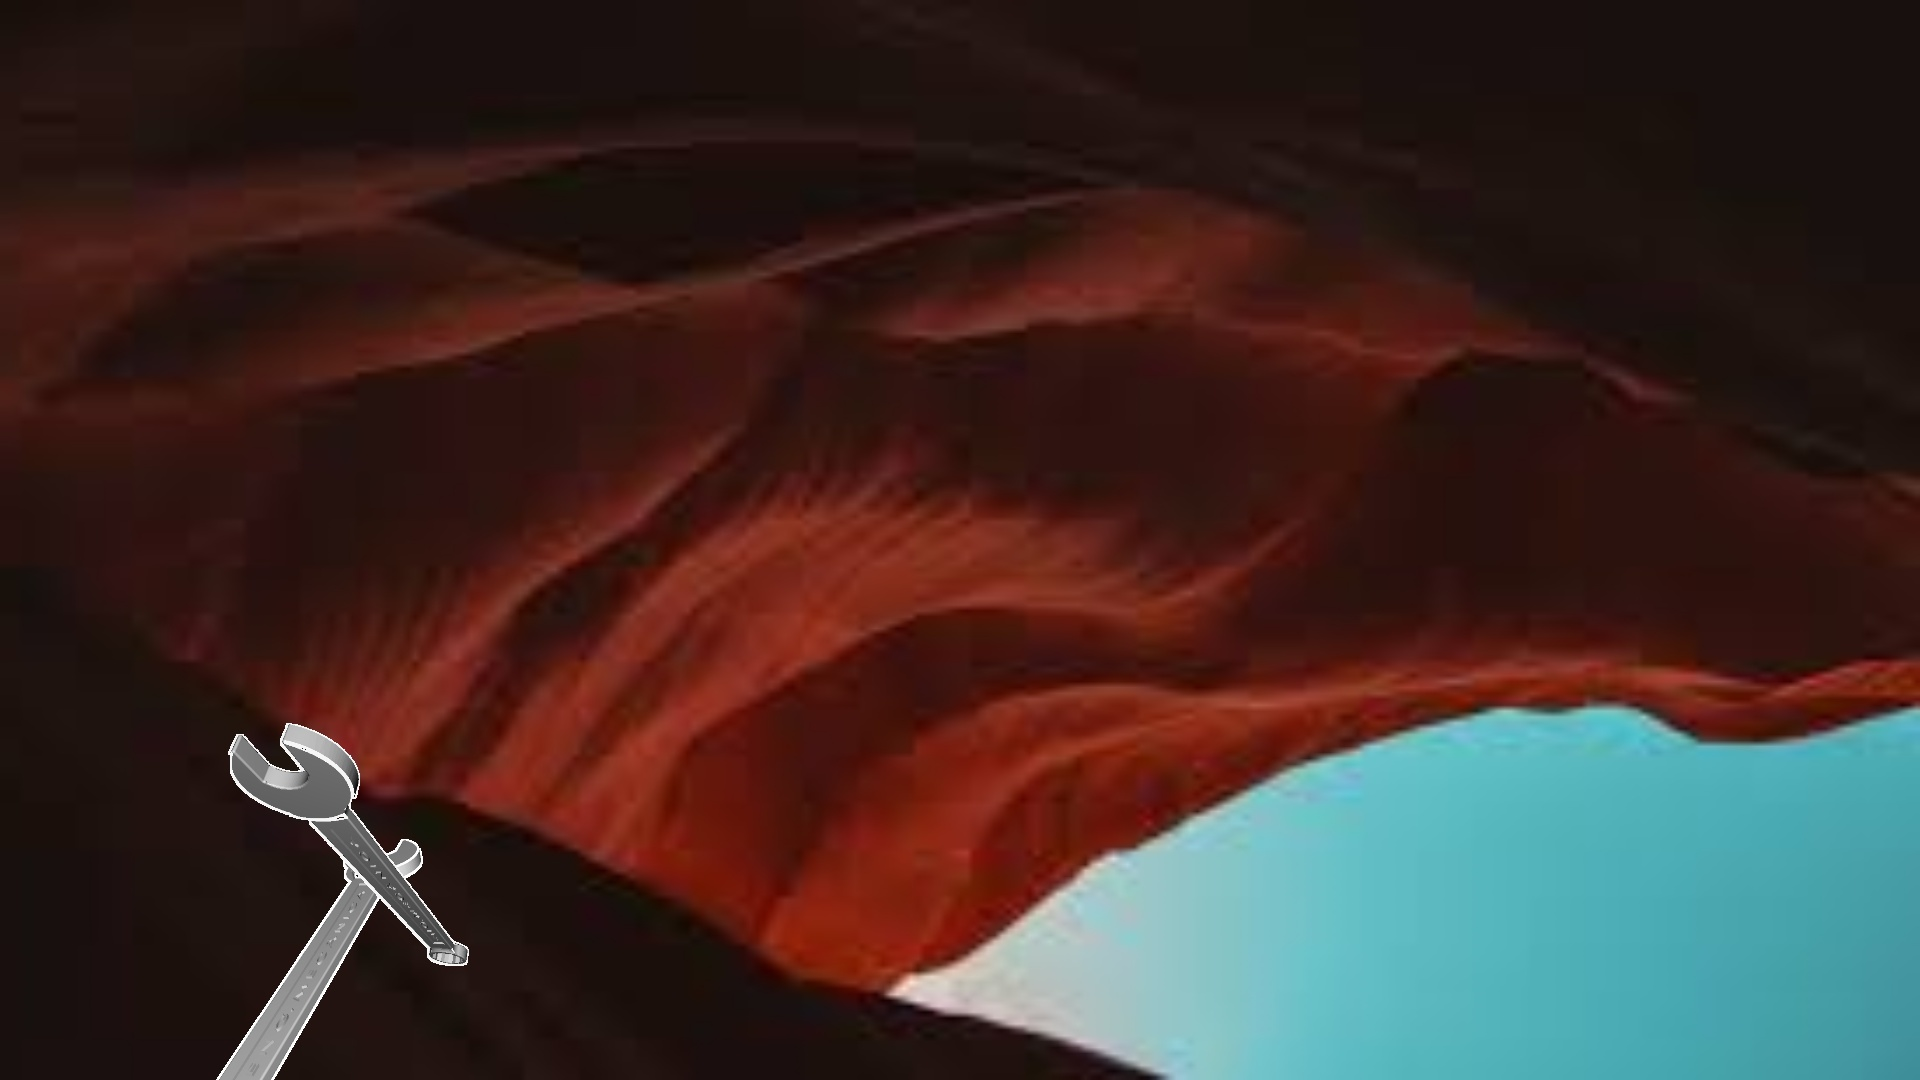Mixed Key: (228, 723, 468, 965), (216, 839, 422, 1079)
